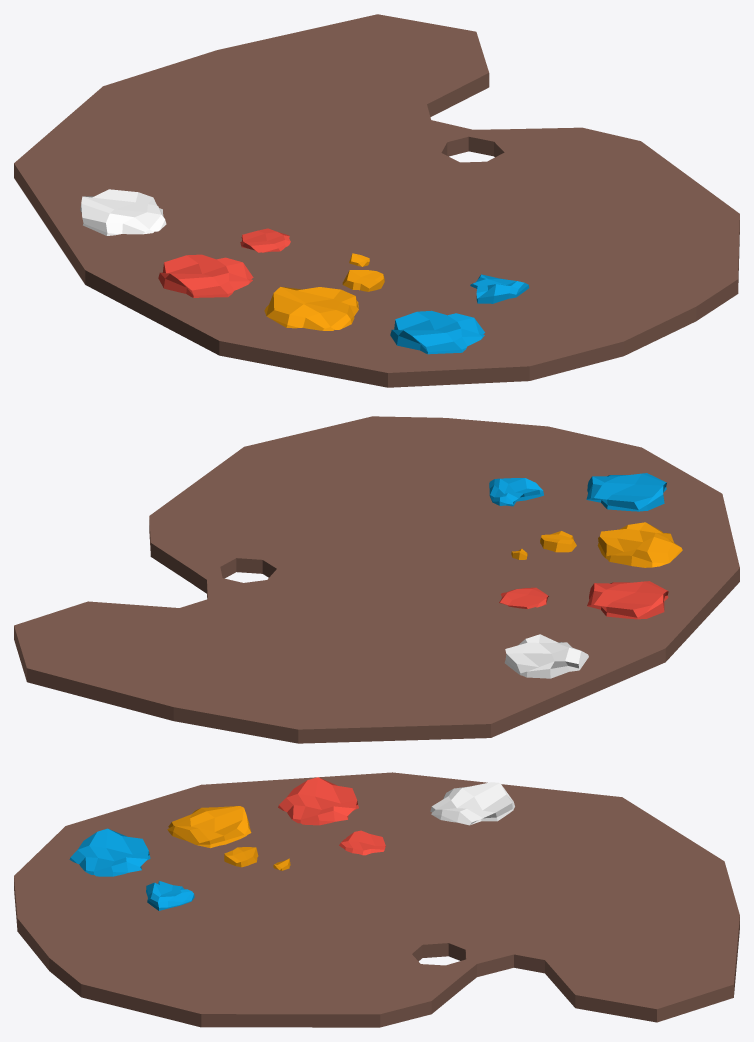
Rendered from Paintpalette.glb.
3 renders of one model, top to bottom at view 1: azimuth 30°, elevation 25°; view 2: azimuth 150°, elevation 25°; view 3: azimuth 270°, elevation 25°, orthographic. The views are drawn at different scales.
Parts seen in each view (by area): view 1: node-0; view 2: node-0; view 3: node-0.
Part boxes in pixels (box(x1,y1,x2,y2)): node-0: box(14, 14, 739, 387); node-0: box(14, 416, 739, 743); node-0: box(14, 772, 739, 1027).
Bounding box in the file's own units: 12.45 × 0.6685 × 15.8.
